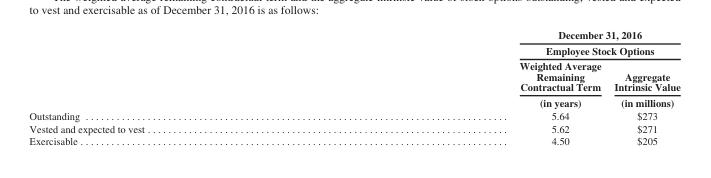table: (28, 28, 679, 146)
table column: (28, 28, 331, 146), (331, 28, 607, 146), (607, 28, 679, 146)
table column header: (28, 28, 679, 108)
table row: (28, 58, 679, 108), (28, 28, 679, 58), (28, 108, 679, 121), (28, 121, 679, 134), (28, 134, 679, 146)
table spanning cell: (331, 28, 679, 58)
